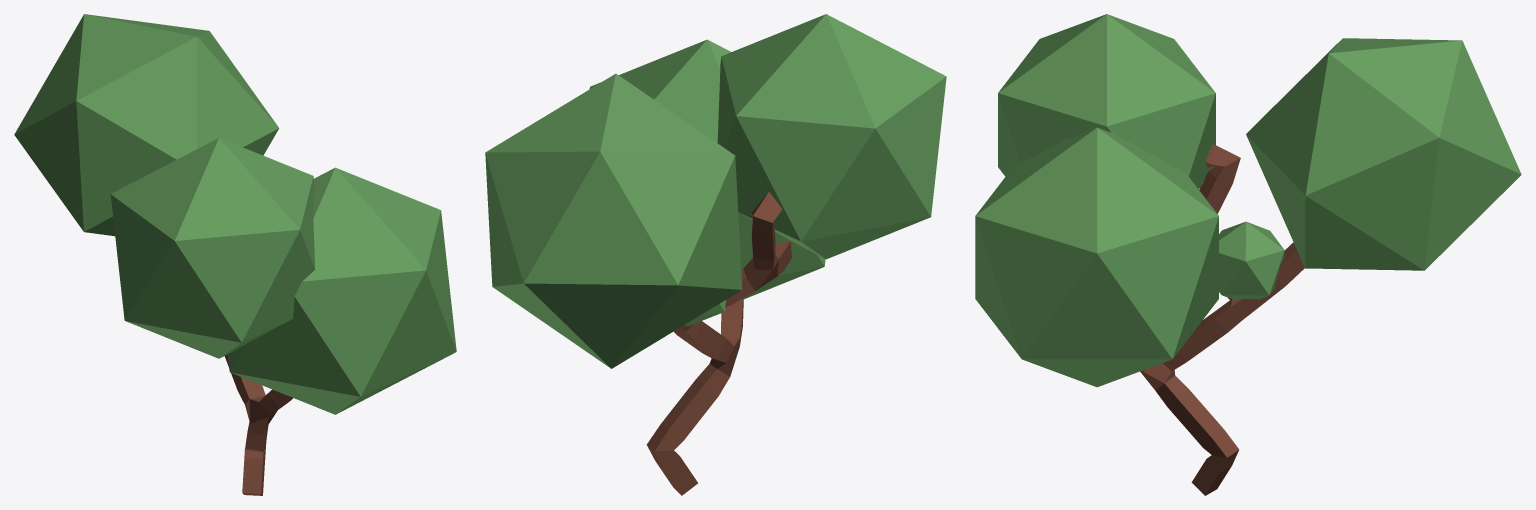
File: rare2boom.fbx
The picture shows the model from 3 angles, left to right: view 1: azimuth 30°, elevation 25°; view 2: azimuth 150°, elevation 25°; view 3: azimuth 270°, elevation 25°; orthographic projection. The views are drawn at different scales.
Visible parts, largest first — view 1: Cube.001; view 2: Cube.001; view 3: Cube.001.
Part boxes in pixels (x1,y1,x2,y2): Cube.001: (14,14,456,495); Cube.001: (485,14,946,495); Cube.001: (975,14,1521,495).
Size of the model in its own units: 950 by 1217 by 1373.
